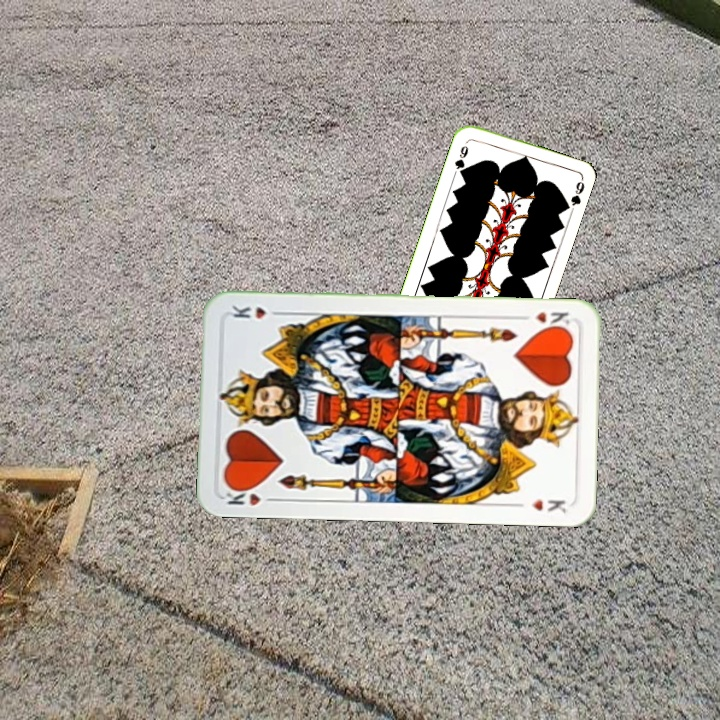G9: (451, 137, 471, 178)
HK: (221, 482, 280, 508), (531, 307, 572, 332)
